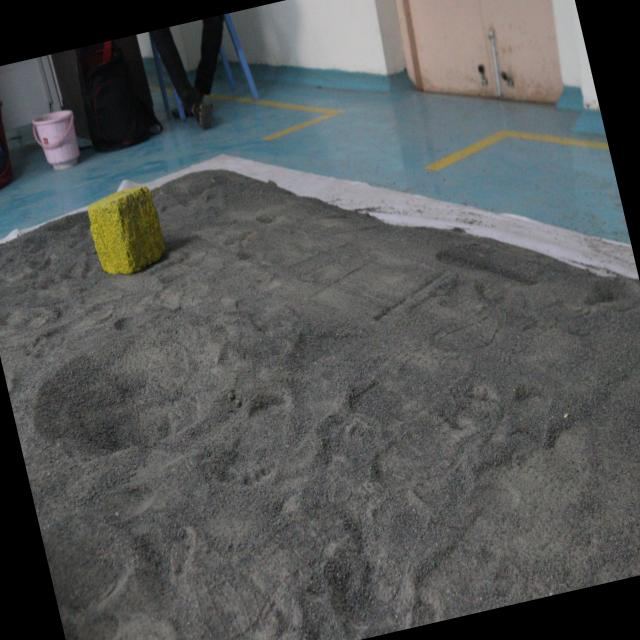box: (81, 172, 179, 288)
crater: (9, 306, 234, 488)
